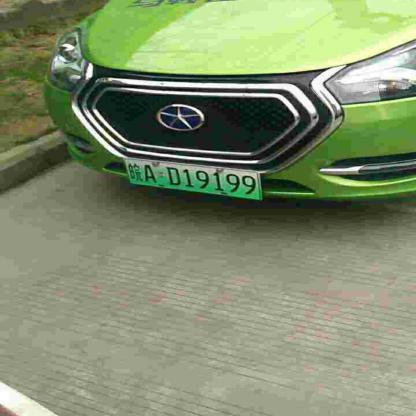lp: (124, 158, 260, 198)
